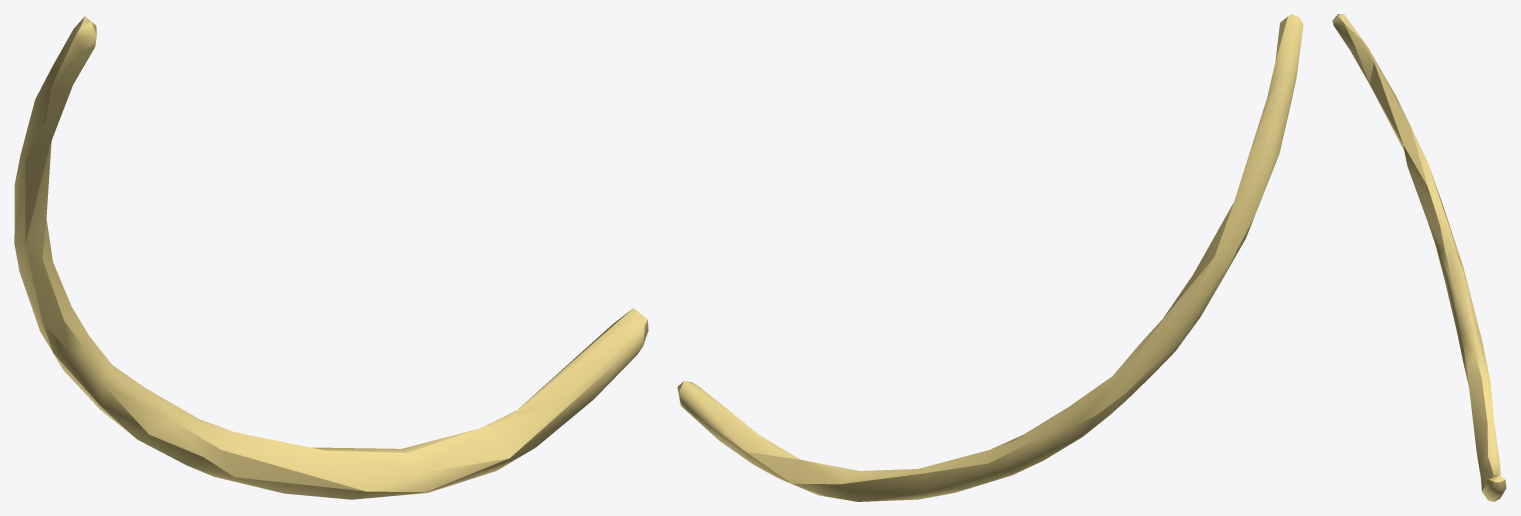
File: fma52579_fj4030.glb
3 views of the same model, side by side, from view 1: azimuth 30°, elevation 25°; view 2: azimuth 150°, elevation 25°; view 3: azimuth 270°, elevation 25° (orthographic). The views are drawn at different scales.
Parts seen in each view (by area): view 1: FMA52579_FJ4030; view 2: FMA52579_FJ4030; view 3: FMA52579_FJ4030.
Boxes of the visible parts, box(x1,y1,x2,y2) form: FMA52579_FJ4030: box(14, 16, 648, 499); FMA52579_FJ4030: box(677, 14, 1303, 501); FMA52579_FJ4030: box(1332, 14, 1506, 501).
Bounding box in the file's own units: 0.0057 × 0.00517 × 0.00233.
